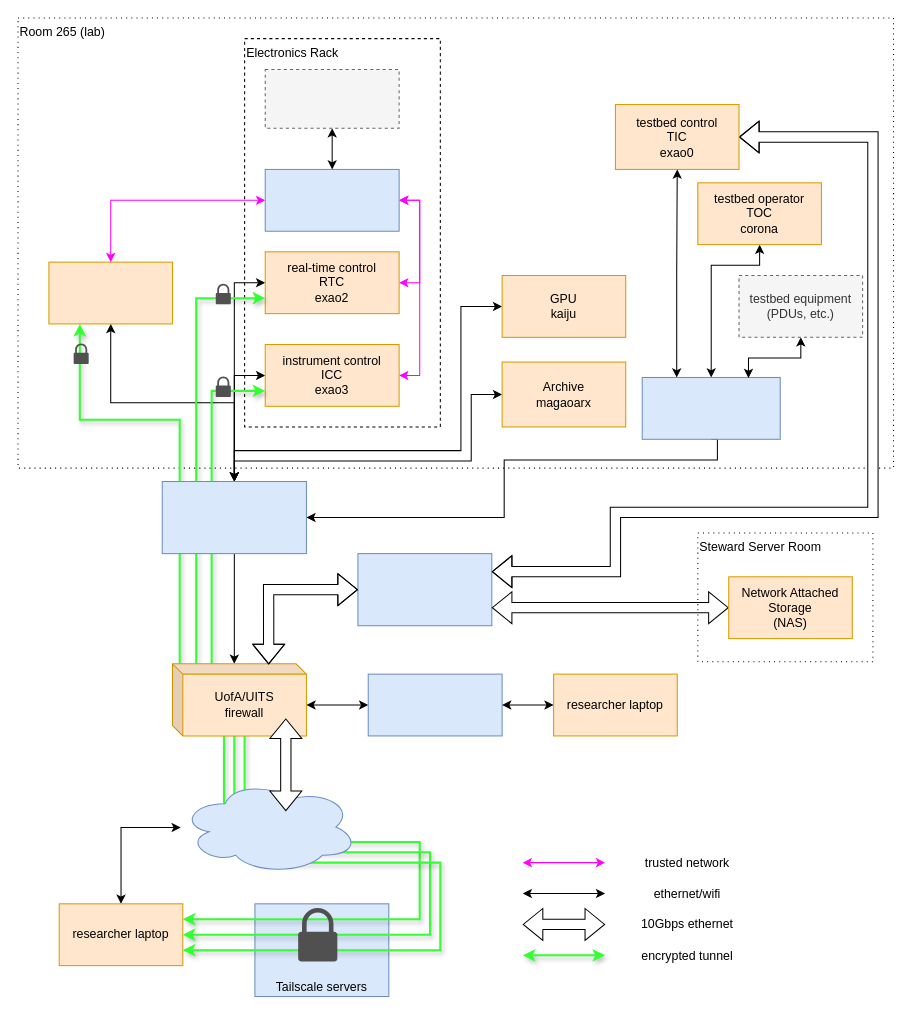
Image size: 912x1015. Some labels were removed from this diagram. The centre of each missing label's shape, as x and y in pixels:
instrument equipment (PDUs, etc.): the point at 331,98
Internet: the point at 269,826
Lab-local network: the point at 710,407
MagAO-X instrument network: the point at 331,199
operator workstation AOC exao1: the point at 110,292
UofA WiFi: the point at 434,704
UofA wired network (1 Gbps): the point at 233,517
UofA wired network (10 Gbps): the point at 424,589
